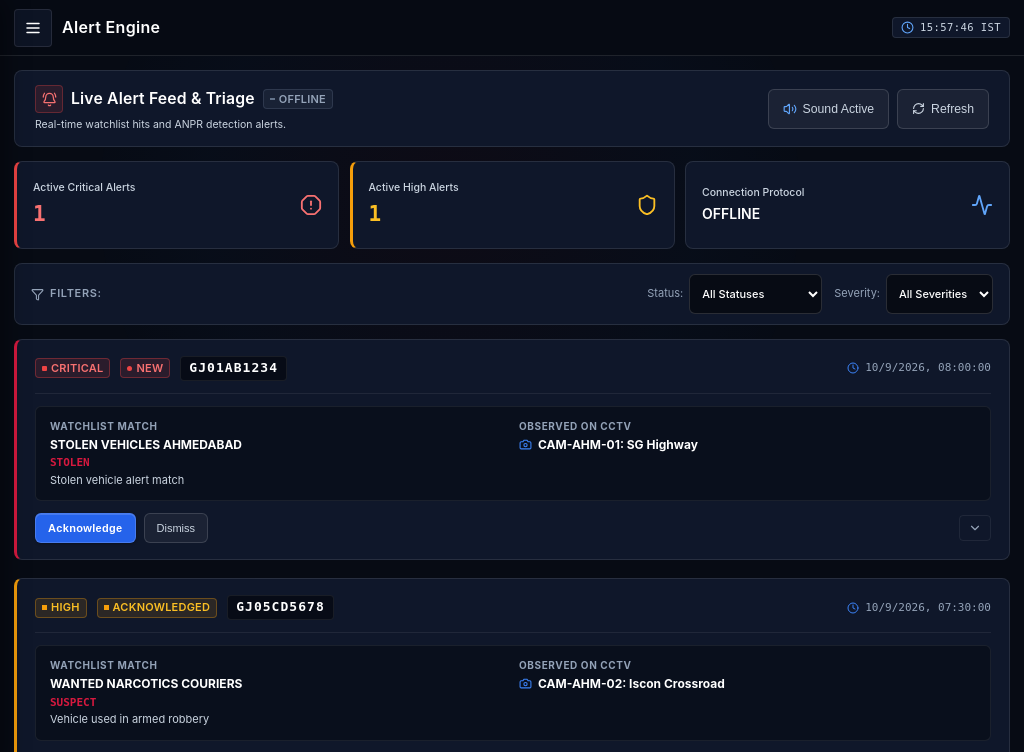
Test: Alerts Live Console Page (Phase 4E) › expands alert audit details without vehicle API invocation
Expected: the text "GJ01AB1234" is shown, [180,356,287,381]
Click the button titled "Toggle Audit & Evidence Details" below "10/9/2026, 08:00:00". click: {"x": 975, "y": 528}
box: [959,516,991,542]
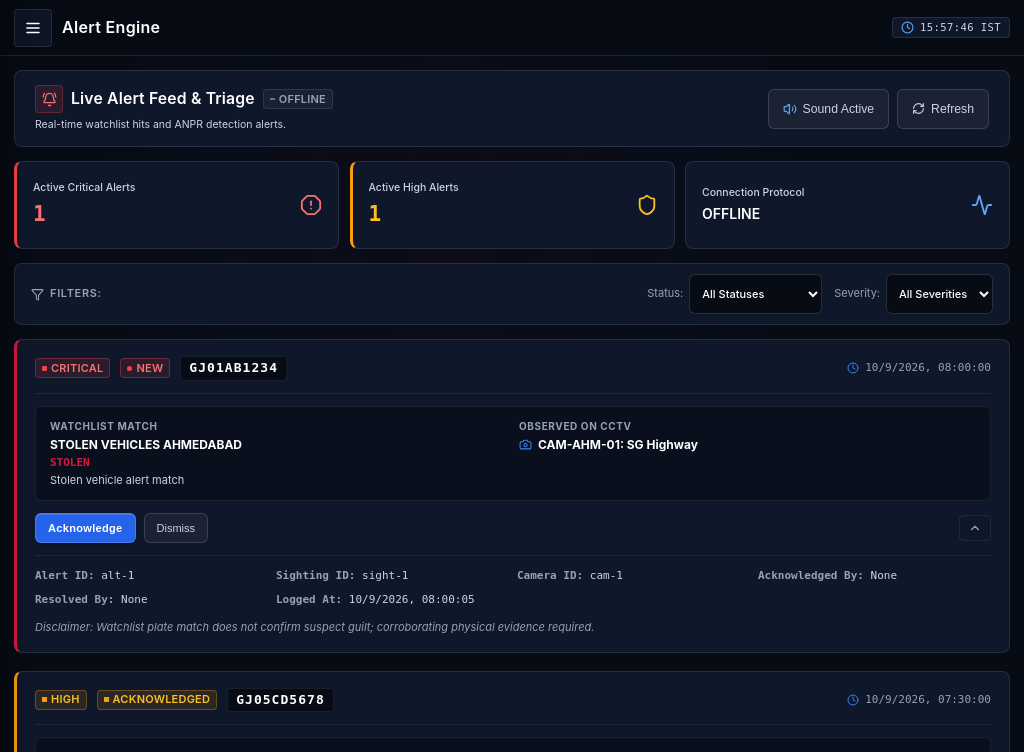
Expected: the text "Alert ID:" is shown, [35,570,95,582]
Expected: the text "Sighting ID:" is shown, [276,570,356,582]
Expected: the text "Disclaimer:" is shown, [35,620,96,634]
